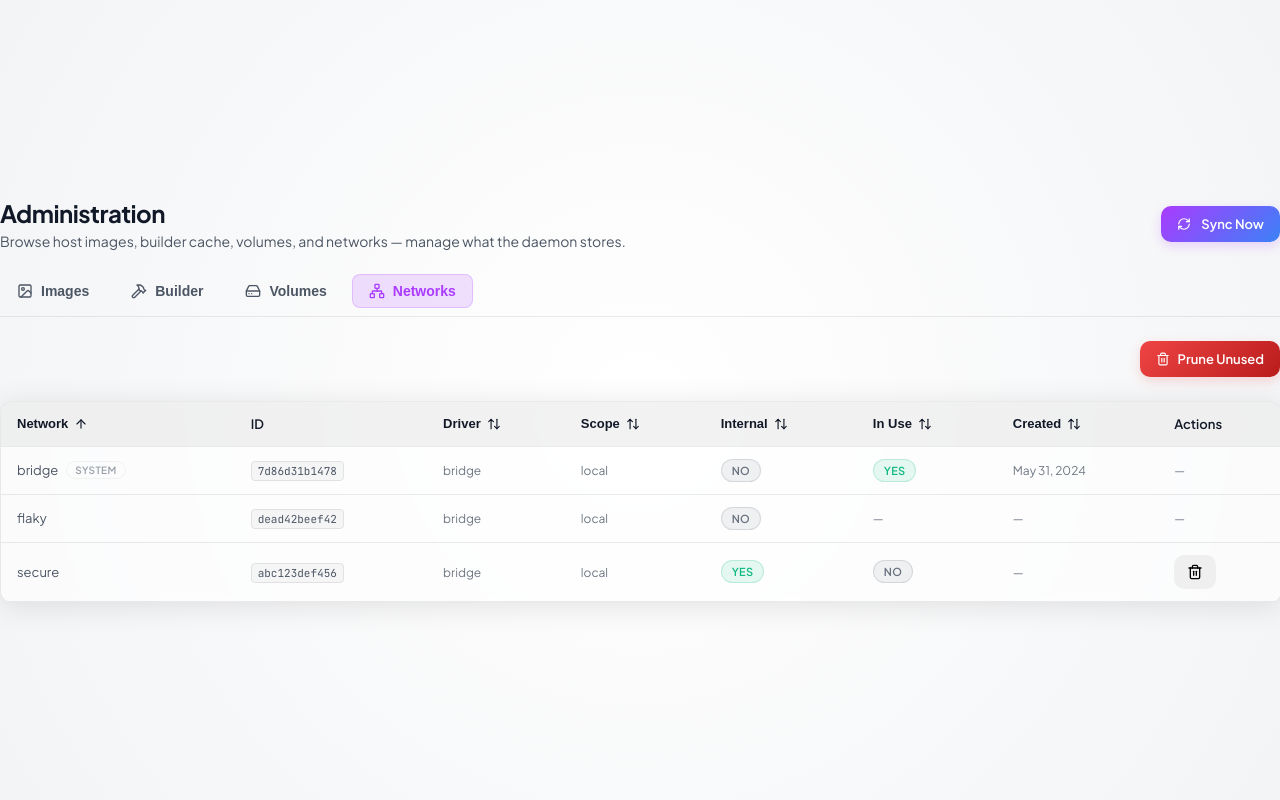
Test case: Administration Component › confirms a per-network delete through the dialog
Expected: the text "secure" is shown, top-left (17, 564), bottom-right (59, 580)
Click the button named "Delete network": (1195, 572) top-left (1174, 554), bottom-right (1216, 588)
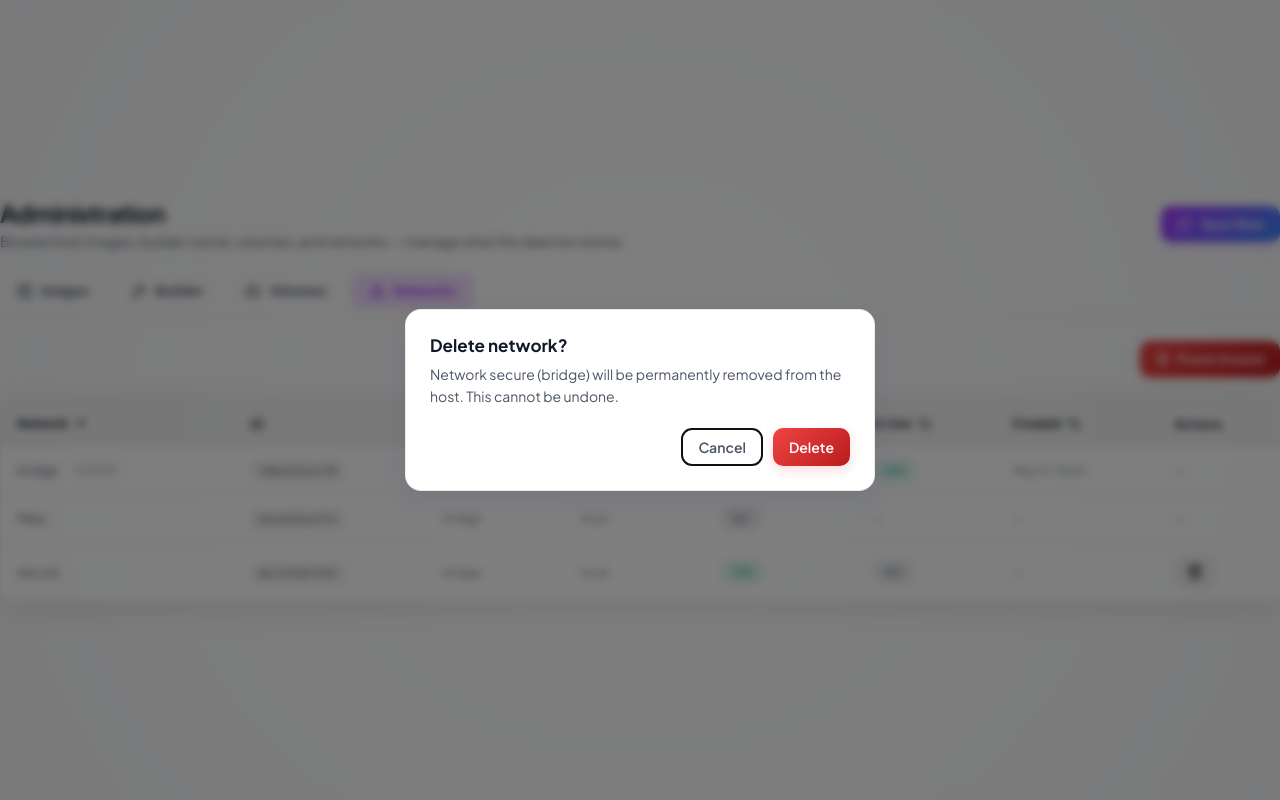
Click the button "Delete": (811, 447) top-left (773, 428), bottom-right (850, 466)
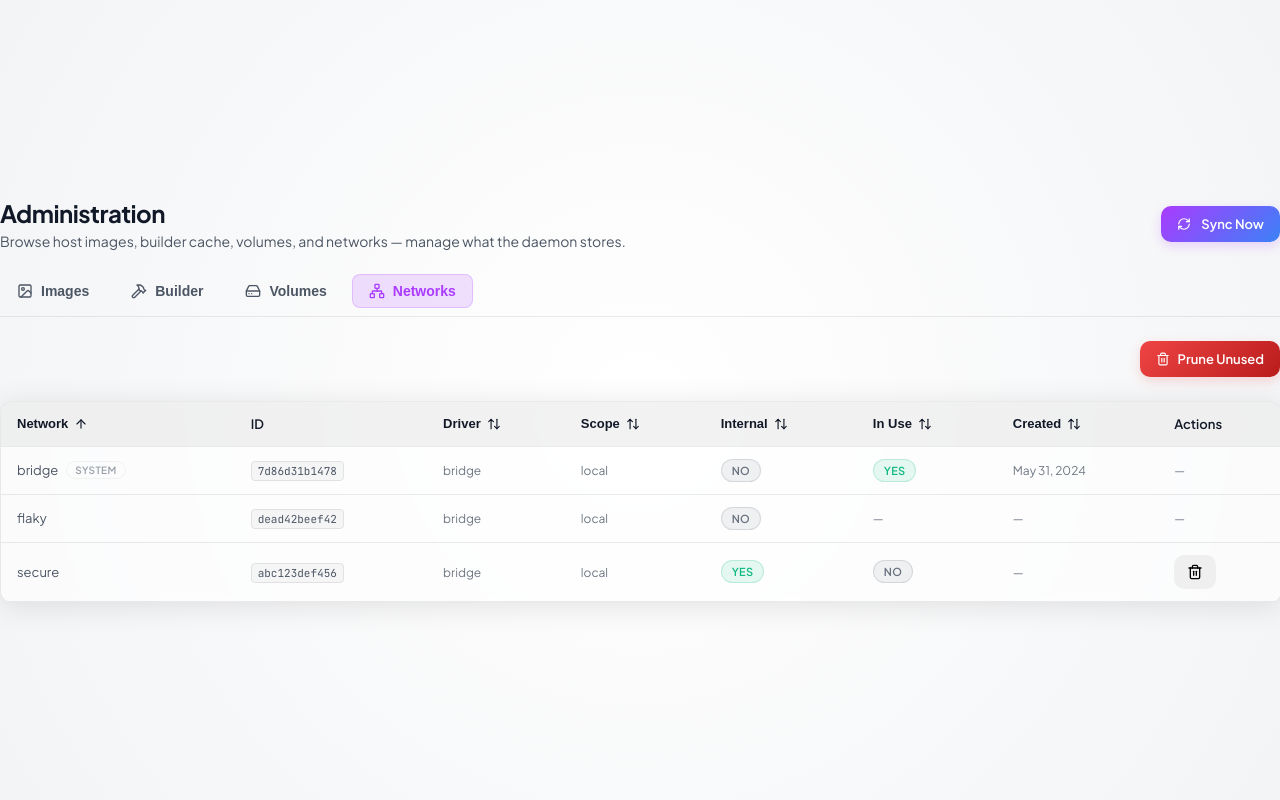
Expected: the dialog is gone
